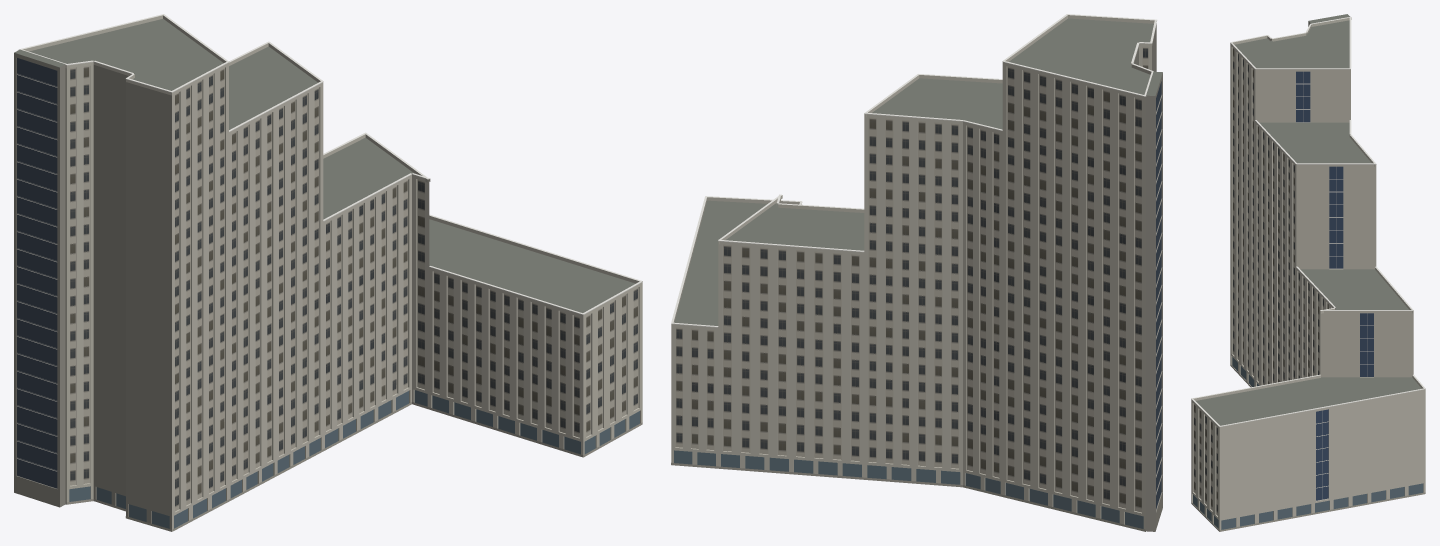
The picture shows the model from 3 angles, left to right: view 1: azimuth 30°, elevation 25°; view 2: azimuth 150°, elevation 25°; view 3: azimuth 270°, elevation 25°; orthographic projection. The views are drawn at different scales.
Parts seen in each view (by area): view 1: dorm2__wall, dorm2__roomGlass, dorm2__dark, dorm2__roof, dorm2__glass2, dorm2__glass, dorm2__parapet, dorm2__trim, dorm2__base, dorm2__frame; view 2: dorm2__wall, dorm2__roomGlass, dorm2__roof, dorm2__dark, dorm2__glass, dorm2__parapet, dorm2__trim, dorm2__glass2, dorm2__base; view 3: dorm2__wall, dorm2__roof, dorm2__roomGlass, dorm2__glass3, dorm2__parapet, dorm2__glass, dorm2__trim, dorm2__base, dorm2__frame.
Part boxes in pixels (x1,y1,x2,y2): dorm2__wall: [66, 64, 642, 531]; dorm2__roomGlass: [70, 65, 638, 511]; dorm2__dark: [14, 52, 171, 529]; dorm2__roof: [14, 19, 635, 312]; dorm2__glass2: [17, 58, 57, 488]; dorm2__glass: [69, 390, 639, 528]; dorm2__parapet: [23, 15, 642, 317]; dorm2__trim: [19, 14, 642, 314]; dorm2__base: [65, 402, 642, 531]; dorm2__frame: [17, 73, 57, 470]; dorm2__wall: [671, 46, 1151, 531]; dorm2__roomGlass: [675, 46, 1148, 512]; dorm2__roof: [674, 18, 1162, 325]; dorm2__dark: [1134, 25, 1162, 531]; dorm2__glass: [674, 450, 1143, 528]; dorm2__parapet: [671, 15, 1156, 330]; dorm2__trim: [671, 14, 1156, 327]; dorm2__glass2: [1156, 81, 1161, 509]; dorm2__base: [671, 463, 1145, 531]; dorm2__wall: [1191, 45, 1425, 531]; dorm2__roof: [1196, 14, 1421, 425]; dorm2__roomGlass: [1193, 48, 1328, 515]; dorm2__glass3: [1296, 71, 1373, 500]; dorm2__parapet: [1191, 17, 1425, 429]; dorm2__glass: [1193, 357, 1423, 529]; dorm2__trim: [1191, 16, 1425, 426]; dorm2__base: [1191, 364, 1425, 531]; dorm2__frame: [1303, 72, 1367, 499].
Bounding box in the file's own units: 97.47 × 75.65 × 49.73.
Materials: 11 (1 with a texture image).
